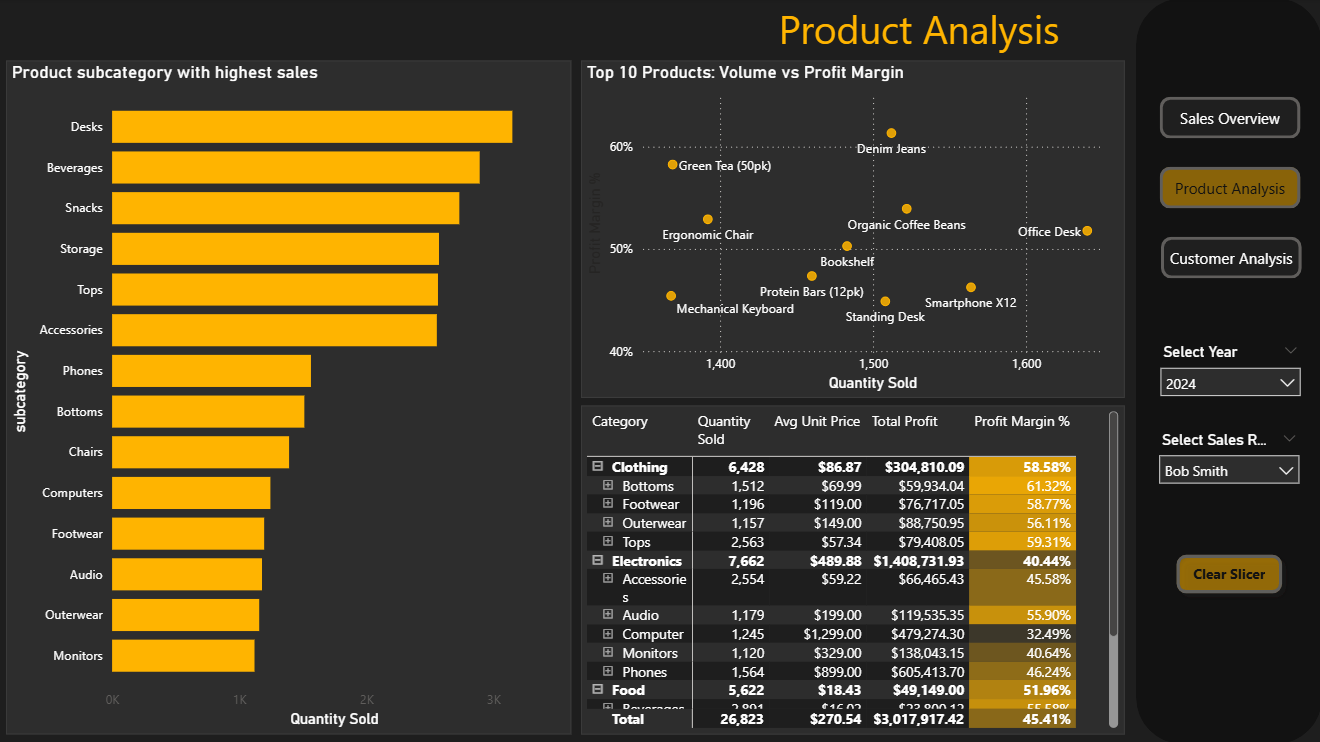

What the dashboard file says about the page in this screenshot:
{"tool":"powerbi","page":{"name":"Product Analysis","canvas":[1280,720],"ordinal":1},"visuals":[{"type":"pivotTable","fields":{"Rows":["product_dim.category","product_dim.subcategory","product_dim.product_name"],"Values":["_Measures.Quantity Sold","Avg(sales_fact.unit_price)","Sum(sales_fact.profit)","_Measures.Profit Margin %"]},"box":[564.6,393.3,524.8,317.3],"z":0},{"type":"shape","box":[1100.2,0,179.8,720.2],"z":1000},{"type":"scatterChart","title":"Top 10 Products: Volume vs Profit Margin","fields":{"X":["_Measures.Quantity Sold"],"Y":["_Measures.Profit Margin %"],"Series":["product_dim.product_name"]},"box":[564.6,60.3,524.8,325.7],"z":2000},{"type":"slicer","fields":{"Values":["date_dim.year"]},"box":[1113.7,327.7,155.3,64.8],"z":3000},{"type":"barChart","title":"Product subcategory with highest sales","fields":{"Category":["product_dim.subcategory"],"Y":["_Measures.Quantity Sold"]},"box":[9.7,60.3,545.3,650.3],"z":4000},{"type":"actionButton","box":[1130.8,528.3,119.8,55],"z":5000},{"type":"textbox","box":[750.4,0,330.6,60.3],"z":6000},{"type":"actionButton","box":[1123.5,95.4,135.7,40.4],"z":7000},{"type":"actionButton","box":[1123.5,162.6,135.7,40.4],"z":8000},{"type":"actionButton","box":[1124.7,229.9,135.7,40.4],"z":9000},{"type":"slicer","fields":{"Values":["sales_rep_dim.sales_rep_name"]},"box":[1111.8,412.1,155.3,64.8],"z":10000}]}

Visuals, with their boxes in screenshot pixels (x1, y1, x2, y2), scaled from the page's 1280x720 canvas onto the 1320x742 screenshot:
pivotTable - product_dim.category x product_dim.subcategory: 582/405/1123/732
shape: 1135/0/1319/741
"Top 10 Products: Volume vs Profit Margin" scatterChart: 582/62/1123/398
slicer - date_dim.year: 1149/338/1309/404
"Product subcategory with highest sales" barChart: 10/62/572/732
actionButton: 1166/544/1290/601
textbox: 774/0/1115/62
actionButton: 1159/98/1299/140
actionButton: 1159/168/1299/209
actionButton: 1160/237/1300/279
slicer - sales_rep_dim.sales_rep_name: 1147/425/1307/491
